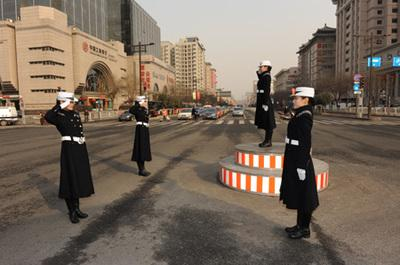up: (41, 87, 94, 225), (277, 84, 320, 245), (125, 92, 155, 183), (252, 59, 277, 146)
